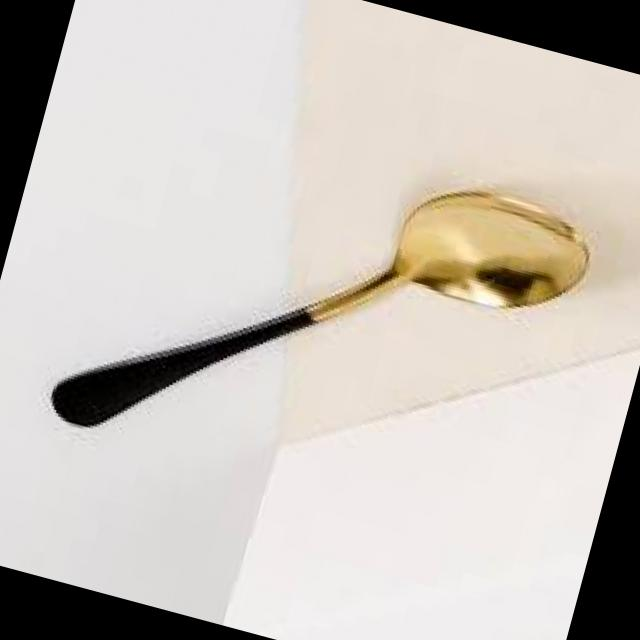spoon: (34, 71, 615, 562)
